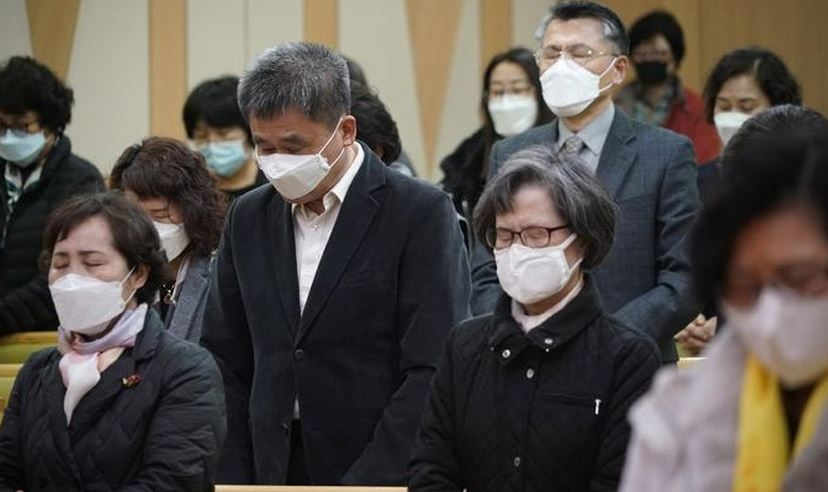with_mask: (247, 119, 343, 197), (493, 218, 574, 307), (47, 249, 132, 329), (538, 39, 610, 118), (481, 76, 536, 140), (188, 120, 244, 176), (1, 106, 49, 166), (715, 85, 756, 137), (631, 42, 673, 85)
